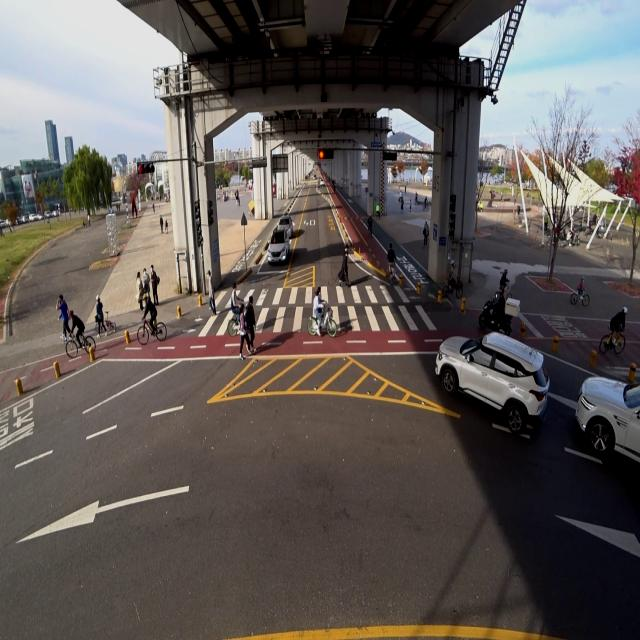Car: (426, 314, 550, 442), (573, 350, 640, 472), (266, 226, 292, 272), (276, 213, 294, 239)
Motorcycle: (477, 284, 521, 339)
